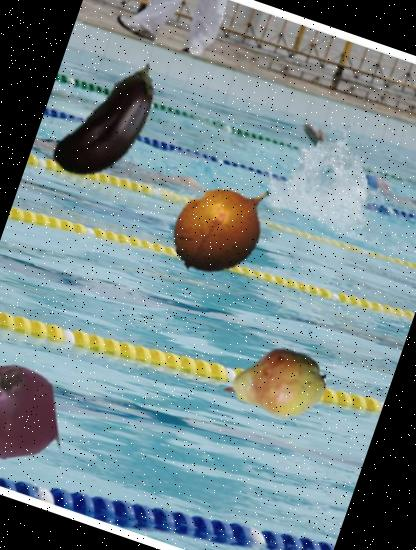Eggplant: (24, 38, 201, 215)
Granadilla: (155, 156, 295, 296)
Pear: (210, 318, 340, 448)
Redcurrant: (0, 350, 72, 473)
